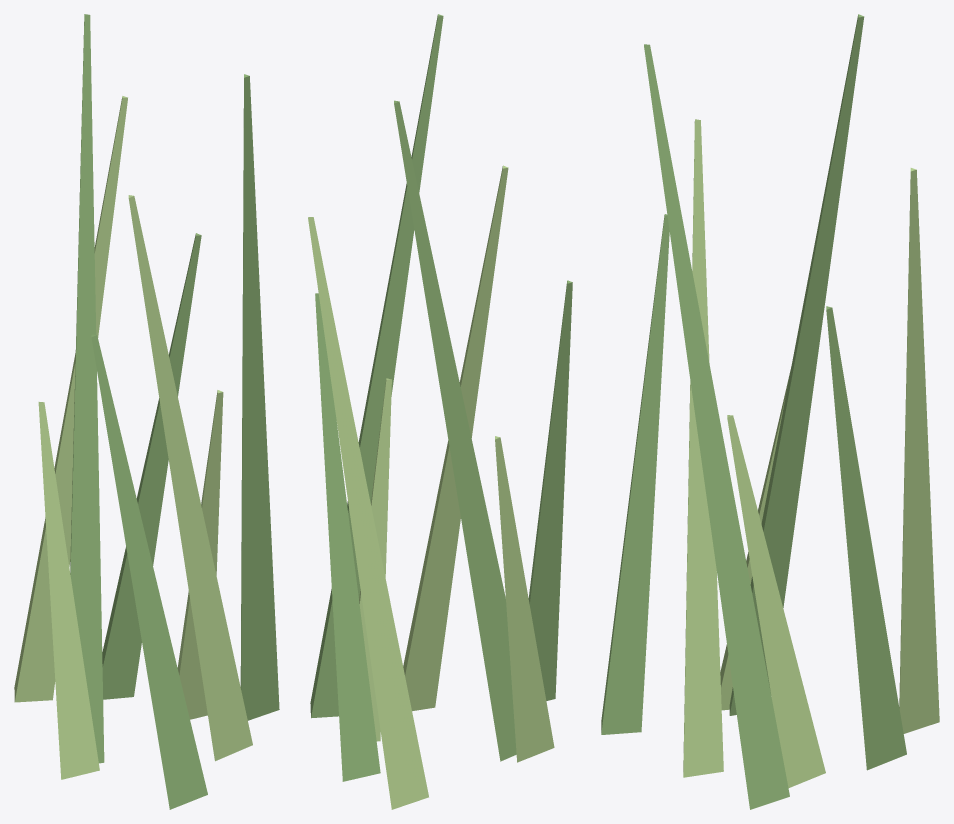
The model's file is 17_Grass_Tall.glb.
3 views of the same model, side by side, from view 1: azimuth 30°, elevation 25°; view 2: azimuth 150°, elevation 25°; view 3: azimuth 270°, elevation 25° (orthographic). The views are drawn at different scales.
Visible parts, largest first — view 1: GrassTall_Blade8, GrassTall_Blade4, GrassTall_Blade7, GrassTall_Blade6, GrassTall_Blade3, GrassTall_Blade5, GrassTall_Blade2, GrassTall_Blade1; view 2: GrassTall_Blade4, GrassTall_Blade3, GrassTall_Blade7, GrassTall_Blade2, GrassTall_Blade8, GrassTall_Blade6, GrassTall_Blade5, GrassTall_Blade1; view 3: GrassTall_Blade8, GrassTall_Blade3, GrassTall_Blade6, GrassTall_Blade7, GrassTall_Blade4, GrassTall_Blade2, GrassTall_Blade1, GrassTall_Blade5.
Boxes of the visible parts, x1,y1,x2,y2 form: GrassTall_Blade8: (240, 74, 279, 720); GrassTall_Blade4: (70, 14, 104, 763); GrassTall_Blade7: (128, 195, 252, 761); GrassTall_Blade6: (91, 334, 207, 809); GrassTall_Blade3: (14, 96, 127, 702); GrassTall_Blade5: (38, 402, 99, 779); GrassTall_Blade2: (102, 233, 201, 699); GrassTall_Blade1: (177, 390, 223, 719); GrassTall_Blade4: (394, 100, 516, 761); GrassTall_Blade3: (308, 217, 428, 809); GrassTall_Blade7: (403, 165, 508, 711); GrassTall_Blade2: (315, 293, 380, 781); GrassTall_Blade8: (310, 14, 443, 718); GrassTall_Blade6: (528, 280, 572, 700); GrassTall_Blade5: (495, 436, 554, 762); GrassTall_Blade1: (359, 378, 391, 741); GrassTall_Blade8: (644, 44, 789, 809); GrassTall_Blade3: (899, 168, 939, 733); GrassTall_Blade6: (601, 214, 669, 734); GrassTall_Blade7: (683, 119, 723, 777); GrassTall_Blade4: (729, 14, 864, 715); GrassTall_Blade2: (826, 306, 906, 770); GrassTall_Blade1: (727, 415, 825, 787); GrassTall_Blade5: (720, 367, 791, 710).
Bounding box in the file's own units: 0.21 × 0.5971 × 0.2509.
